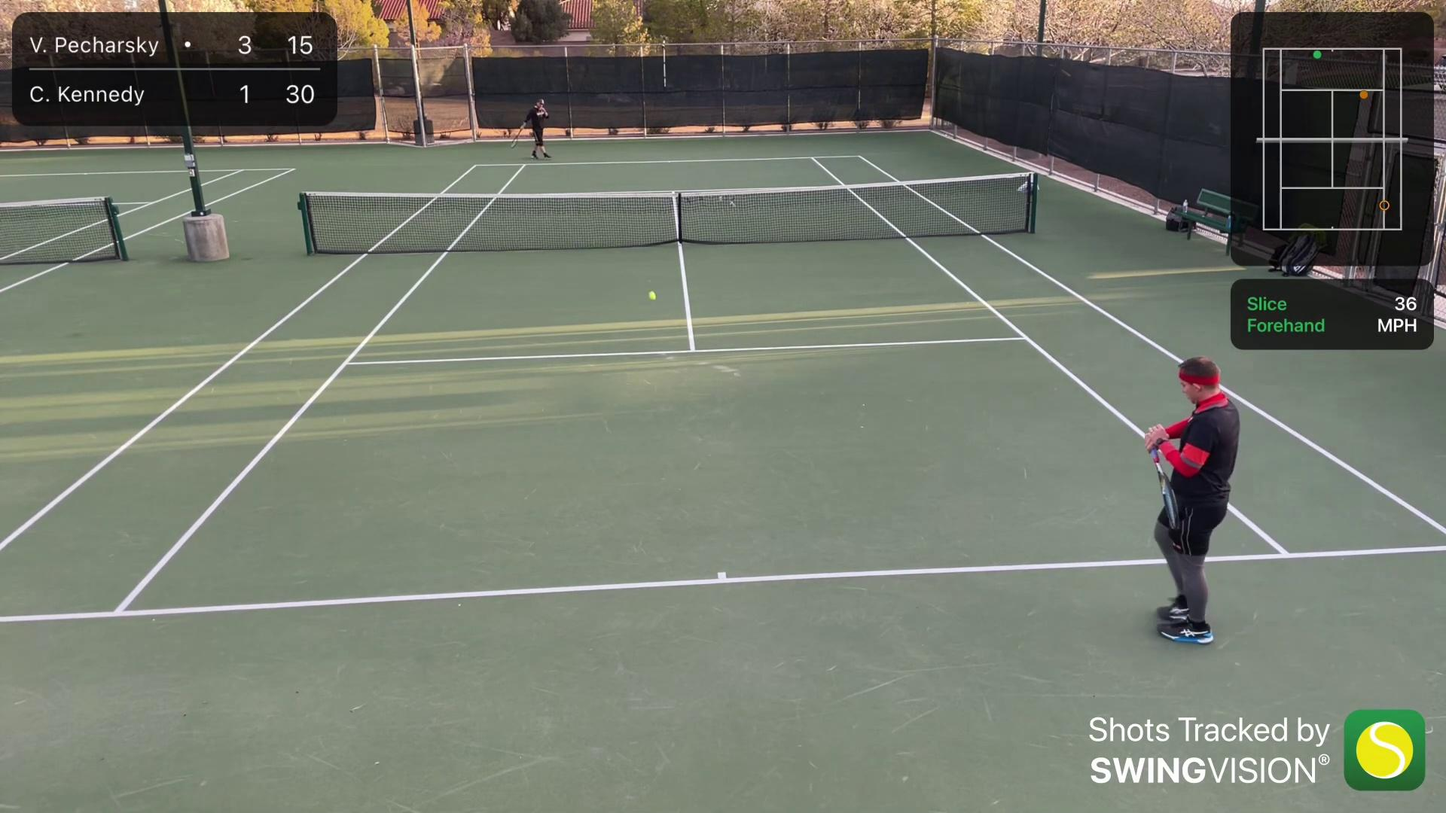ball: (647, 289, 659, 303)
